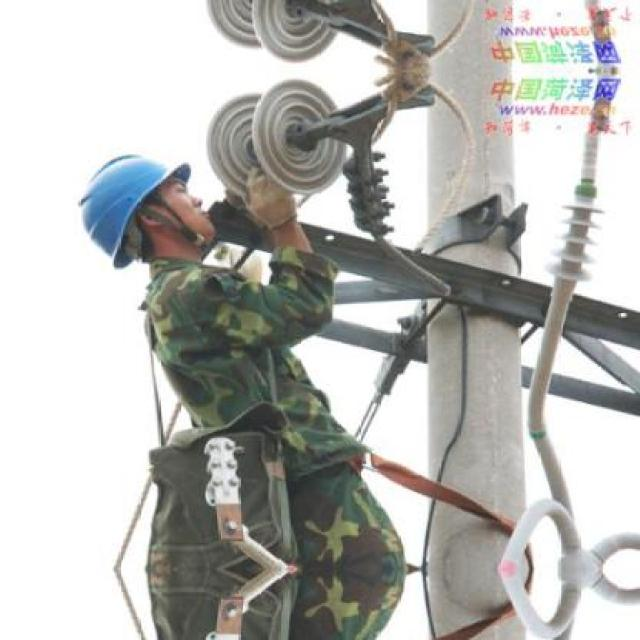helmet: (61, 129, 213, 280)
